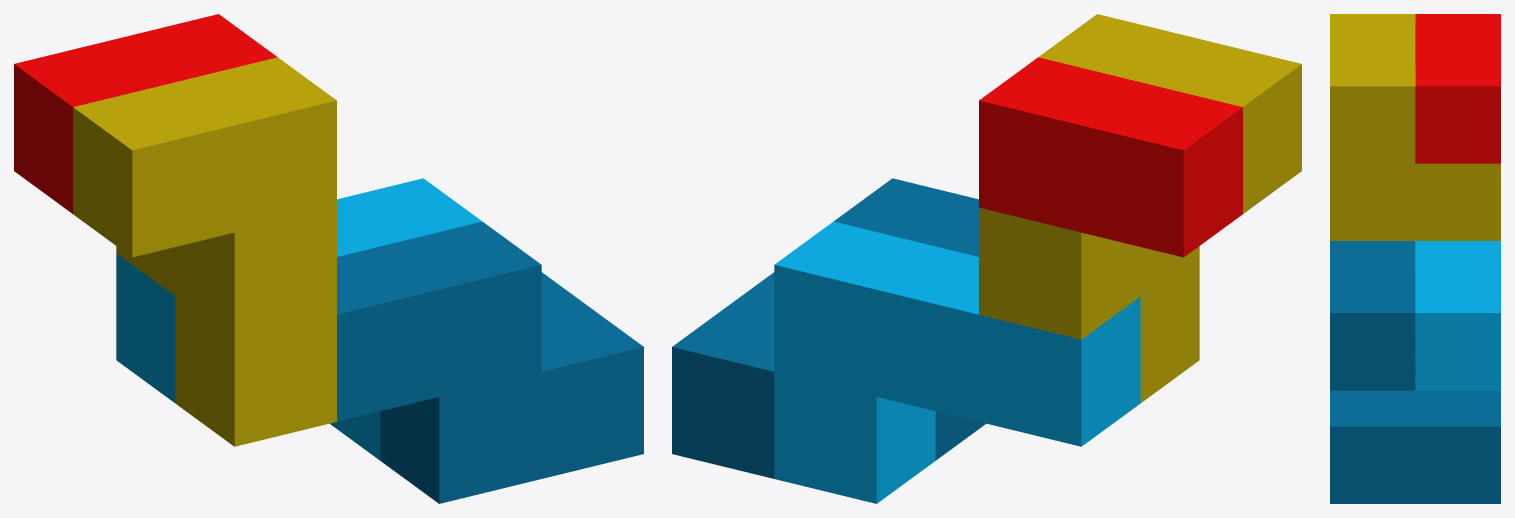
3 renders of one model, left to right at view 1: azimuth 30°, elevation 25°; view 2: azimuth 150°, elevation 25°; view 3: azimuth 270°, elevation 25°, orthographic. The views are drawn at different scales.
Parts seen in each view (by area): view 1: mergedBlocks(Clone); view 2: mergedBlocks(Clone); view 3: mergedBlocks(Clone).
Boxes of the visible parts, x1=… form: mergedBlocks(Clone): x1=14, y1=14, x2=643, y2=503; mergedBlocks(Clone): x1=672, y1=14, x2=1301, y2=503; mergedBlocks(Clone): x1=1330, y1=14, x2=1500, y2=503.
Size of the model in its own units: 5 by 4 by 2.
Materials: 4 (4 with a texture image).
